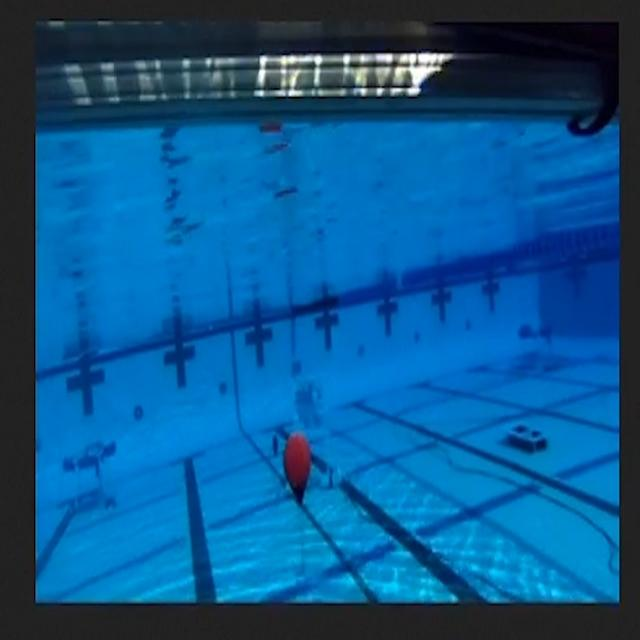Buoy: (282, 441, 318, 501)
